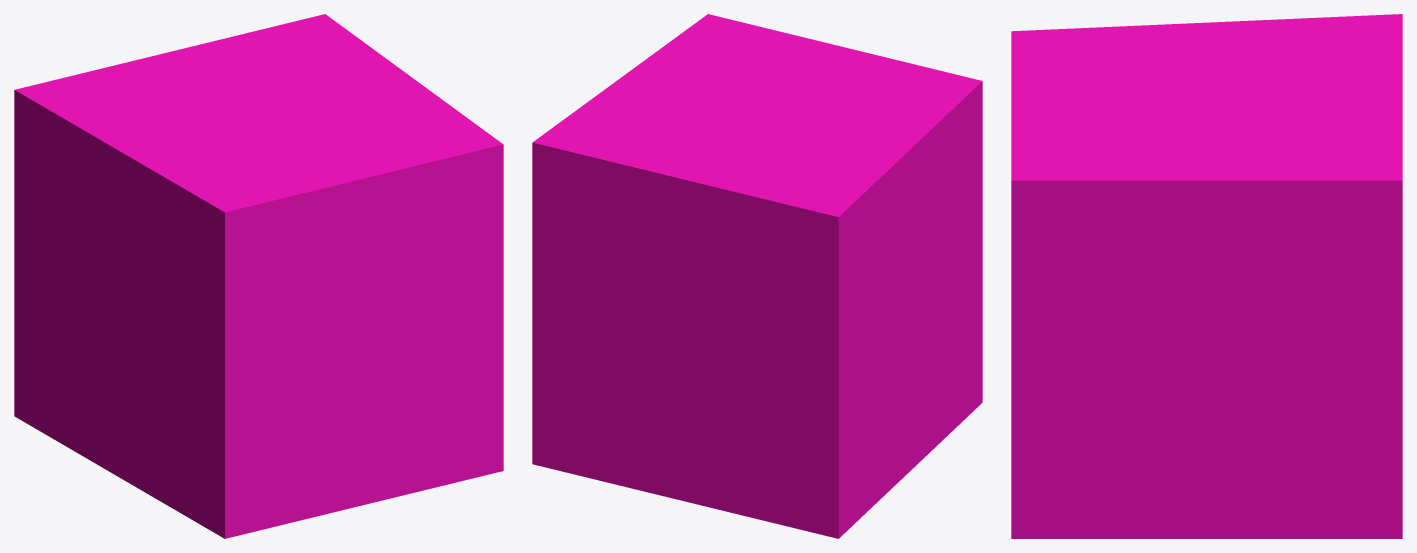
Rendered from study_book_row_2_meshCollider.fbx.
The picture shows the model from 3 angles, left to right: view 1: azimuth 30°, elevation 25°; view 2: azimuth 150°, elevation 25°; view 3: azimuth 270°, elevation 25°; orthographic projection. The views are drawn at different scales.
Visible parts, largest first — view 1: study_book_row_2_meshCollider; view 2: study_book_row_2_meshCollider; view 3: study_book_row_2_meshCollider.
Boxes of the visible parts, x1,y1,x2,y2 form: study_book_row_2_meshCollider: [14, 14, 503, 538]; study_book_row_2_meshCollider: [532, 14, 982, 538]; study_book_row_2_meshCollider: [1011, 14, 1402, 538].
Bounding box in the file's own units: 22.46 × 22.54 × 22.31.
